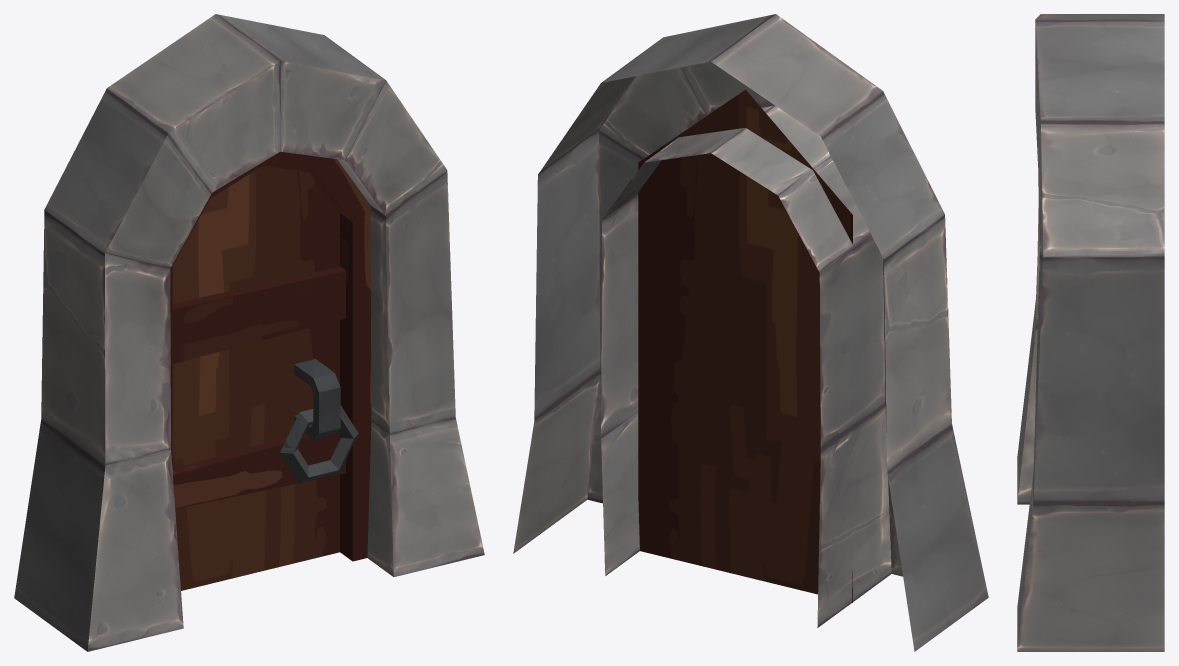
Rendered from SM_BLD_door_v04_01.fbx.
3 views of the same model, side by side, from view 1: azimuth 30°, elevation 25°; view 2: azimuth 150°, elevation 25°; view 3: azimuth 270°, elevation 25° (orthographic).
Visible parts, largest first — view 1: SM_BLD_door_v04_01; view 2: SM_BLD_door_v04_01; view 3: SM_BLD_door_v04_01.
Boxes of the visible parts, x1,y1,x2,y2 form: SM_BLD_door_v04_01: [14, 14, 484, 651]; SM_BLD_door_v04_01: [513, 14, 988, 651]; SM_BLD_door_v04_01: [1017, 14, 1164, 651].
Bounding box in the file's own units: 221 × 284 × 70.8.
